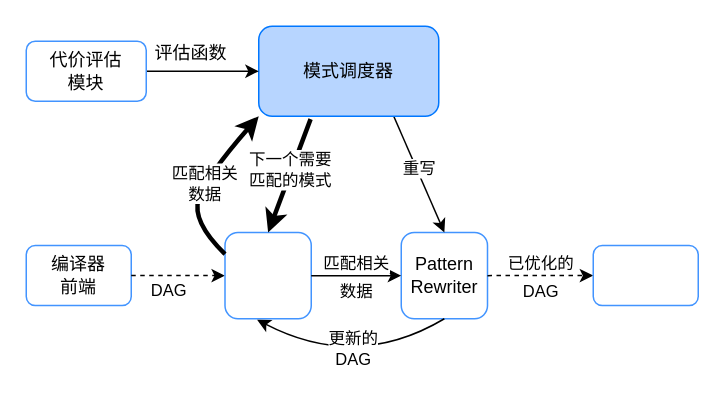
Some shapes in this 725 by 395 pixel diagram are drawn without their labels. Here are the shapes that lost their labels. From the top down, the box of each, then its label:
(224, 231, 311, 319): Pattern Matcher
(592, 244, 698, 306): 编译器 后端
